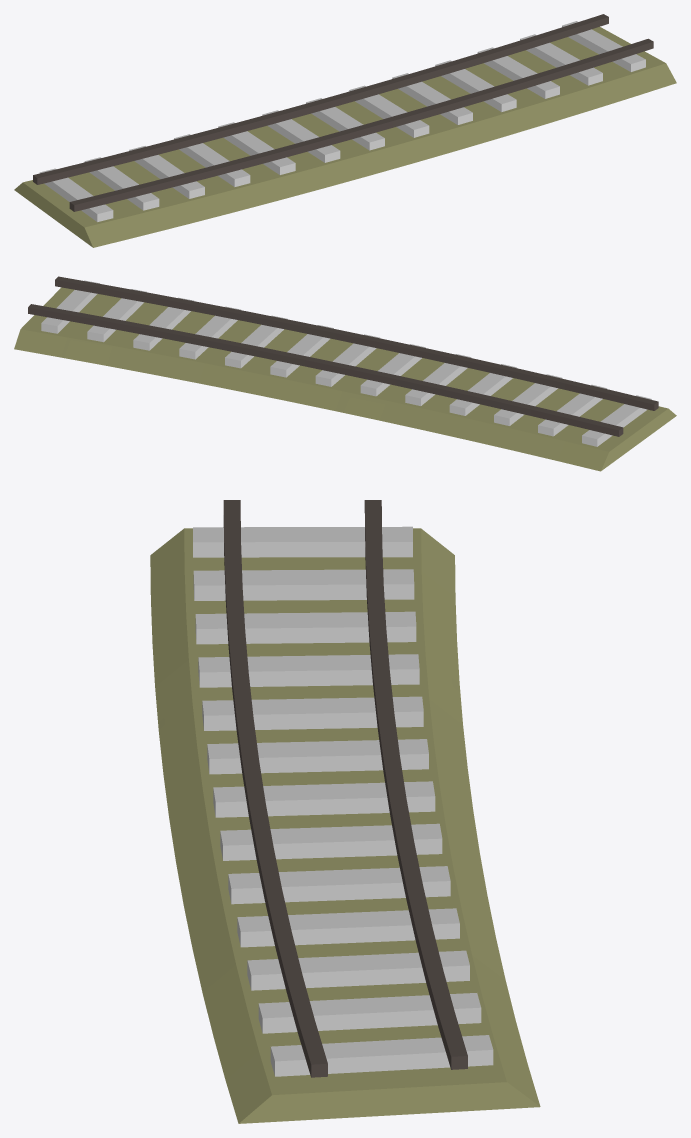
File: SM_Via_CurvaR120_v0_Hormigon_LOD1.fbx
3 views of the same model, one above another, from view 1: azimuth 30°, elevation 25°; view 2: azimuth 150°, elevation 25°; view 3: azimuth 270°, elevation 25° (orthographic). The views are drawn at different scales.
Parts seen in each view (by area): view 1: SM_via_trazado_v15_LOD1; view 2: SM_via_trazado_v15_LOD1; view 3: SM_via_trazado_v15_LOD1.
Part boxes in pixels (<box>): SM_via_trazado_v15_LOD1: <box>14,14,676,247</box>; SM_via_trazado_v15_LOD1: <box>14,276,676,471</box>; SM_via_trazado_v15_LOD1: <box>150,500,540,1123</box>.
Size of the model in its own units: 15.9 by 0.72 by 4.61.
